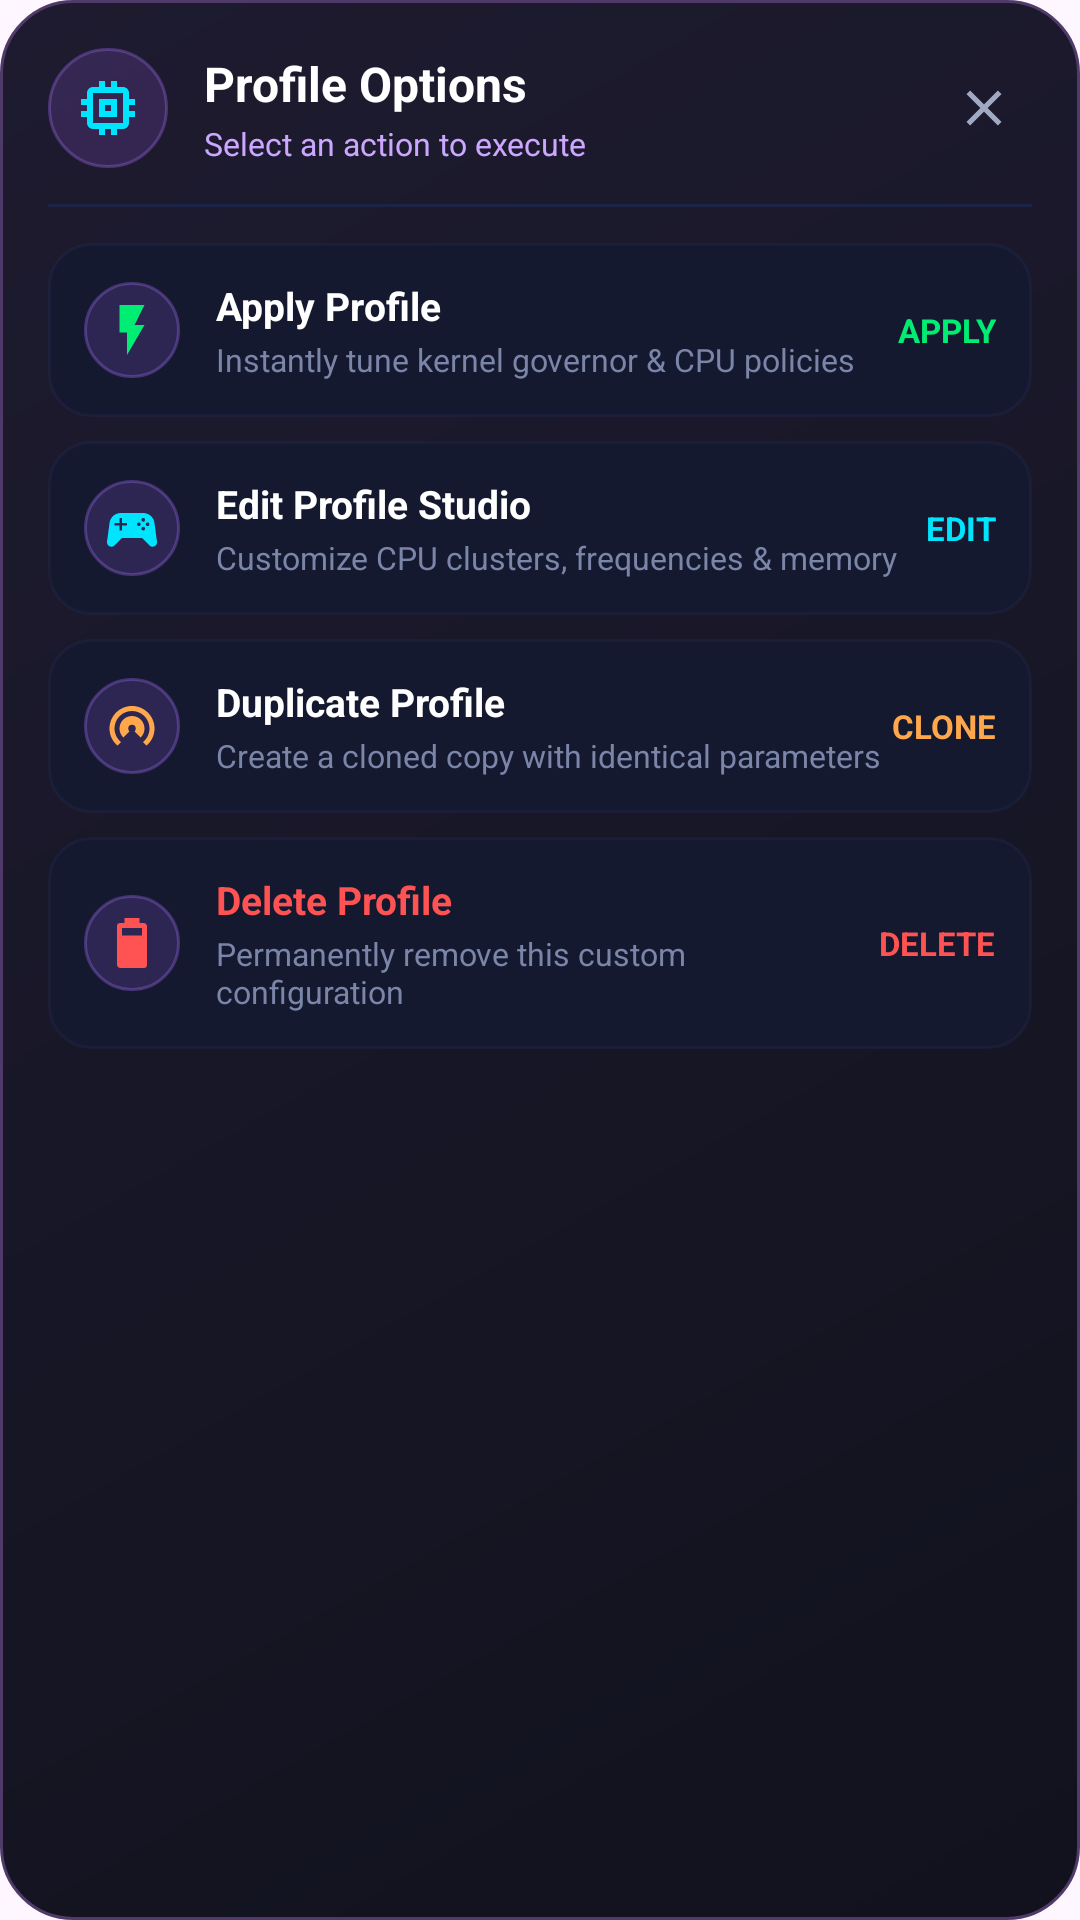

Screen size 1080×1920. Icon name, then its center in pixels as point (x, y):
battery: point (132, 943)
close: point (984, 108)
cpu: point (108, 108)
flash: point (132, 330)
game: point (132, 528)
